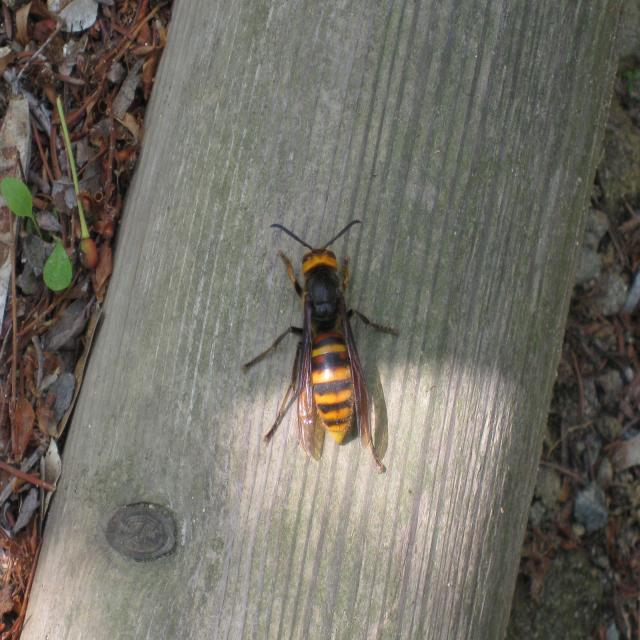Wasp: (222, 218, 418, 463)
